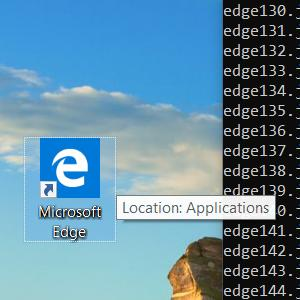edge: (40, 138, 100, 198)
